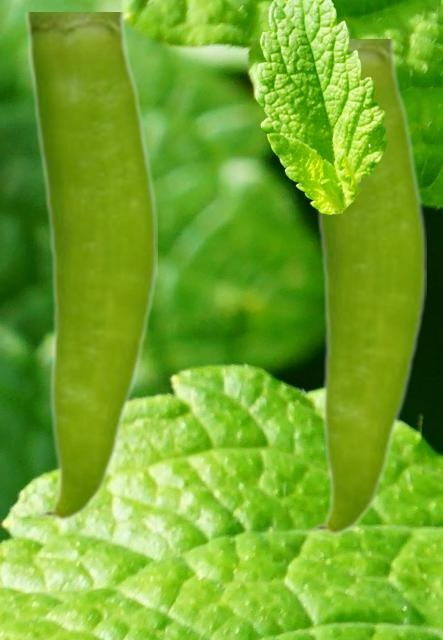green_chili: (22, 12, 156, 522), (303, 39, 425, 536)
